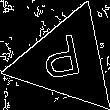P_S: (42, 33, 90, 89)
